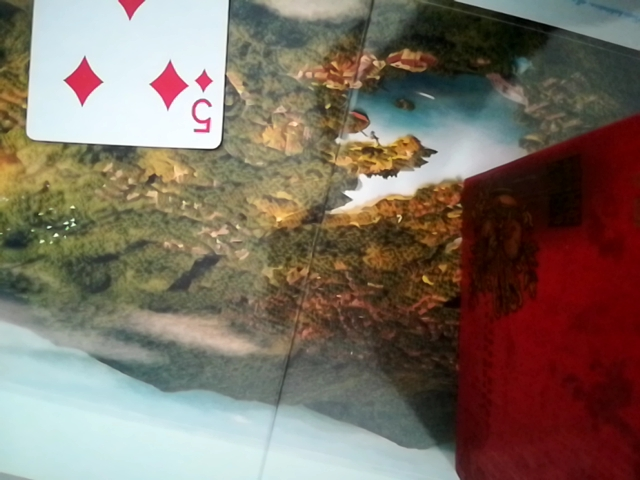fk 5: (15, 0, 234, 152)
